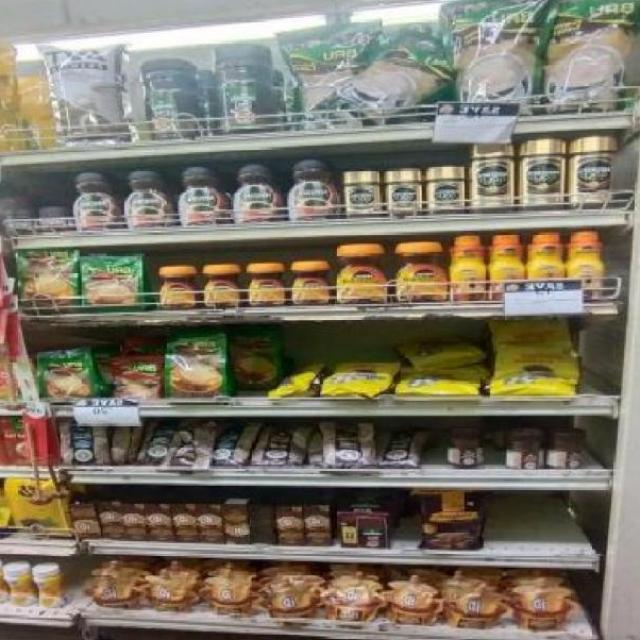Coffee: (518, 138, 570, 212), (567, 136, 617, 210), (469, 140, 515, 214), (336, 243, 388, 305), (288, 158, 338, 220), (396, 242, 448, 301), (234, 164, 284, 222), (125, 168, 172, 227), (180, 165, 226, 224), (75, 171, 118, 232), (568, 232, 603, 298), (451, 237, 485, 302), (156, 266, 198, 309), (245, 264, 286, 308), (526, 234, 565, 280), (427, 168, 465, 215), (346, 170, 383, 217), (490, 234, 524, 282), (293, 262, 330, 306), (204, 264, 240, 306), (388, 169, 421, 213), (4, 208, 38, 234), (42, 206, 71, 231)
